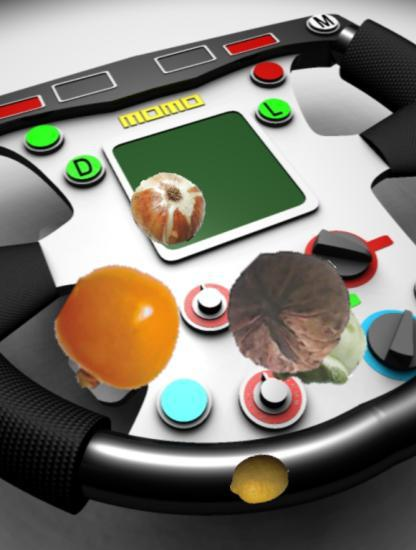Kohlrabi: (239, 268, 369, 398)
Lemon: (229, 448, 290, 509)
Onion: (131, 170, 207, 246)
Physalis: (49, 264, 185, 400)
Walnut: (224, 246, 354, 376)
